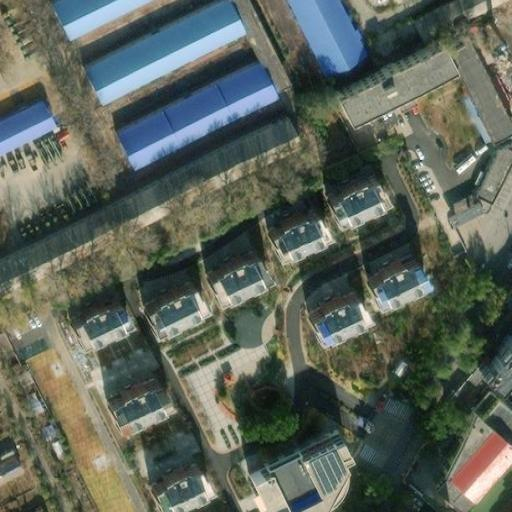building: (117, 56, 274, 162), (243, 424, 343, 512), (327, 35, 440, 112), (441, 32, 509, 140), (435, 408, 500, 494), (454, 373, 512, 428), (140, 281, 201, 327), (262, 205, 323, 251), (102, 378, 163, 424), (319, 170, 380, 216), (144, 461, 204, 507), (359, 252, 419, 298), (201, 251, 262, 296), (64, 295, 124, 340), (301, 287, 361, 332), (231, 300, 281, 349), (437, 181, 480, 221)
